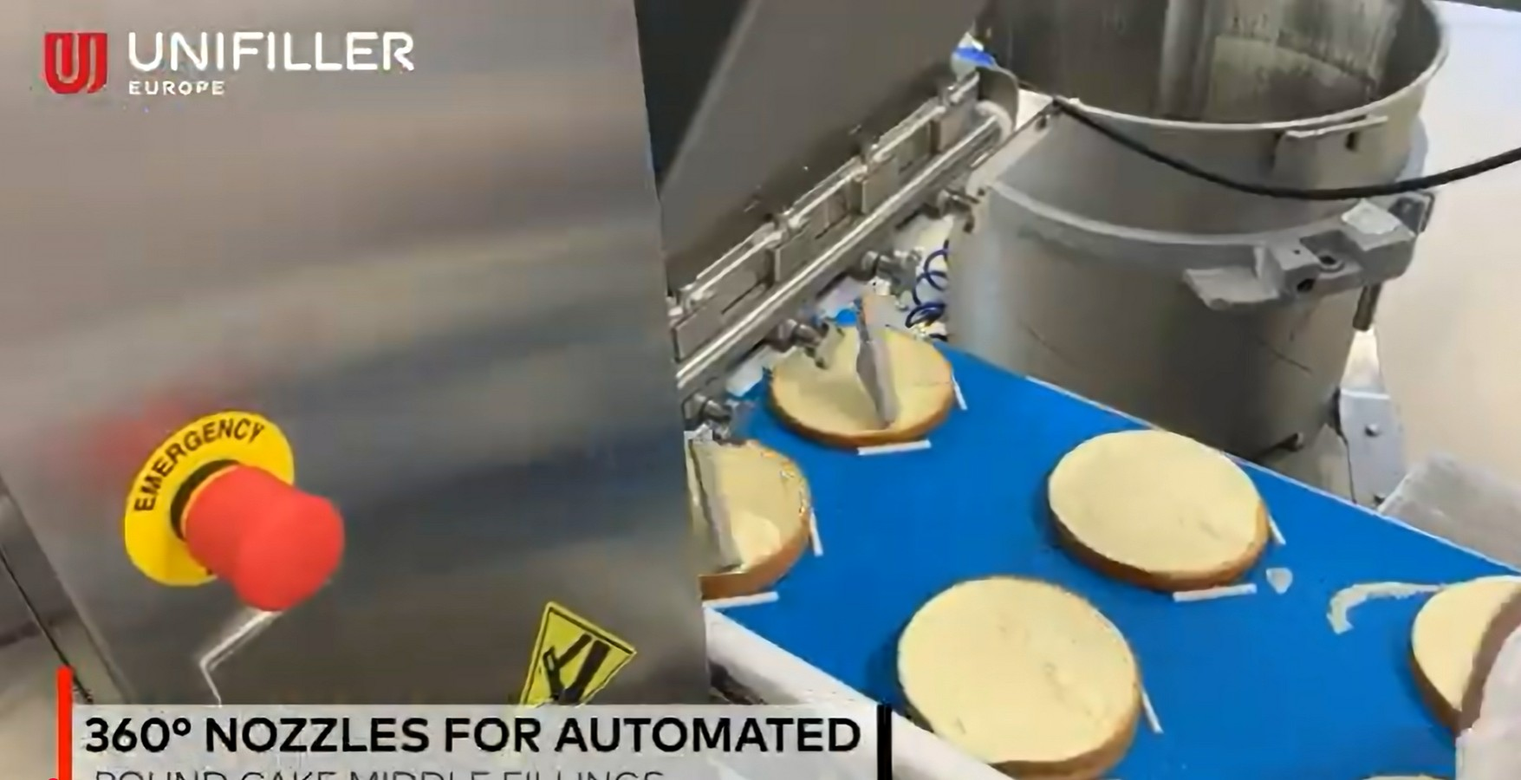Whipped Cream: (895, 575, 1144, 773), (1042, 429, 1278, 592), (766, 338, 960, 450), (686, 440, 823, 598), (1407, 573, 1520, 732), (753, 440, 758, 456)
